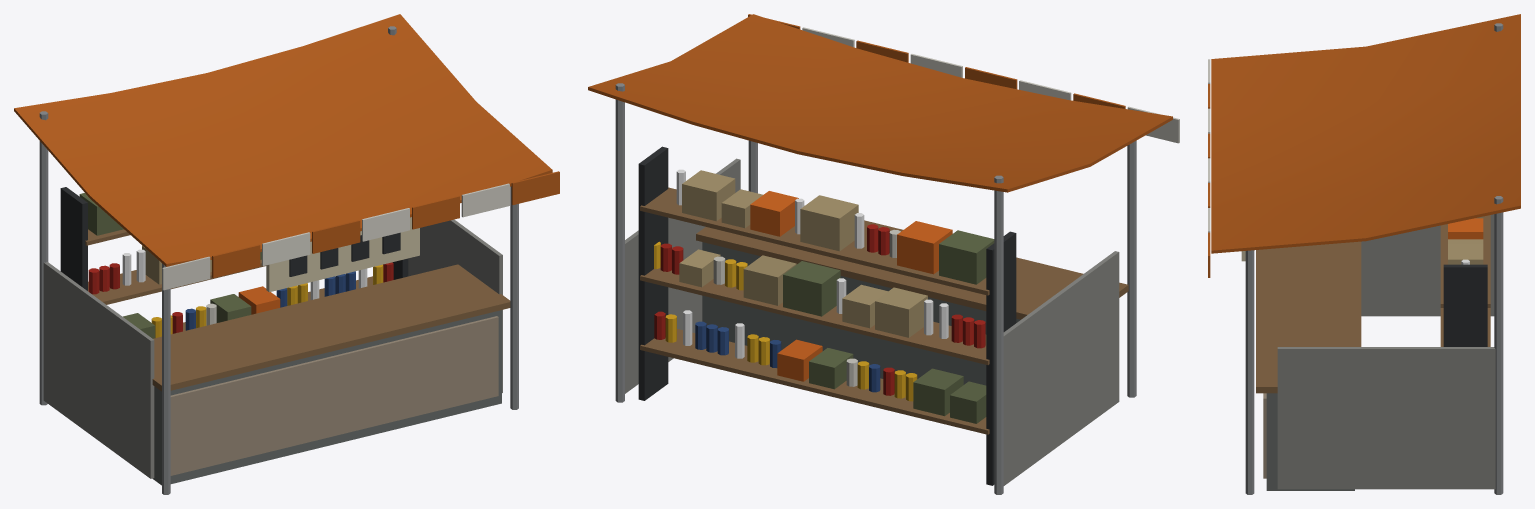
The model's file is vendor-stall-orange.glb.
The picture shows the model from 3 angles, left to right: view 1: azimuth 30°, elevation 25°; view 2: azimuth 150°, elevation 25°; view 3: azimuth 270°, elevation 25°; orthographic projection. The views are drawn at different scales.
Parts seen in each view (by area): view 1: Piece_lod0; view 2: Piece_lod0; view 3: Piece_lod0.
Part boxes in pixels (bbox=[...]): Piece_lod0: bbox=[14, 14, 559, 494]; Piece_lod0: bbox=[588, 14, 1179, 494]; Piece_lod0: bbox=[1208, 14, 1520, 494].
Size of what is drawn, in the model's own units: 4.21 by 2.97 by 2.83.
